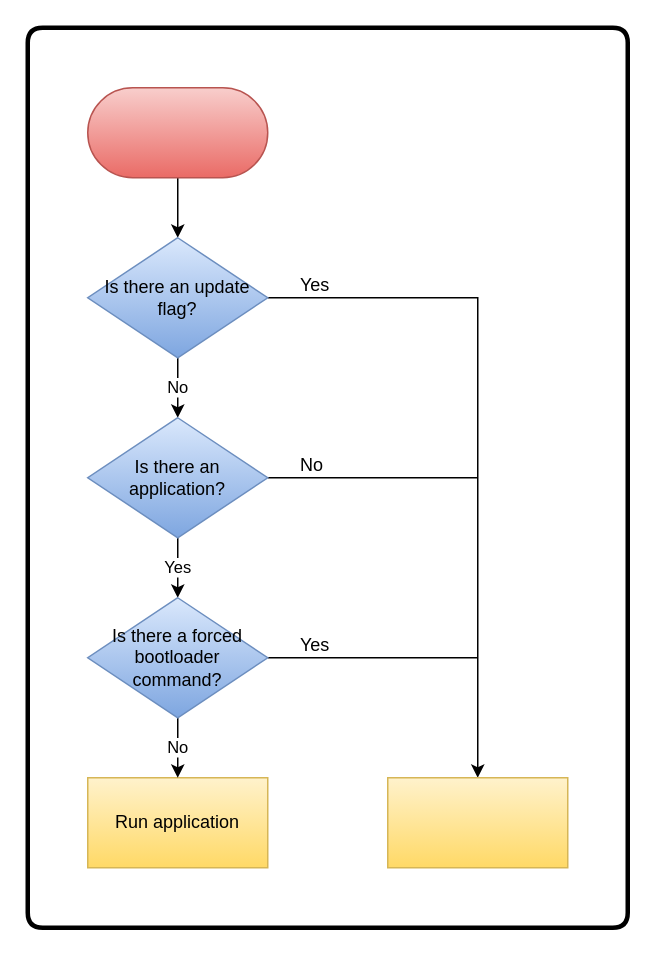
This 657x957 diagram has some shape labels left out. The box of each missing label's shape, as (x1, y1, x2, y2) in pixels:
Run bootloader: (386, 776, 568, 868)
USB Connection Power-Up: (86, 86, 268, 178)
